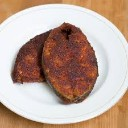seerfish: (46, 22, 96, 101), (13, 28, 53, 82)
